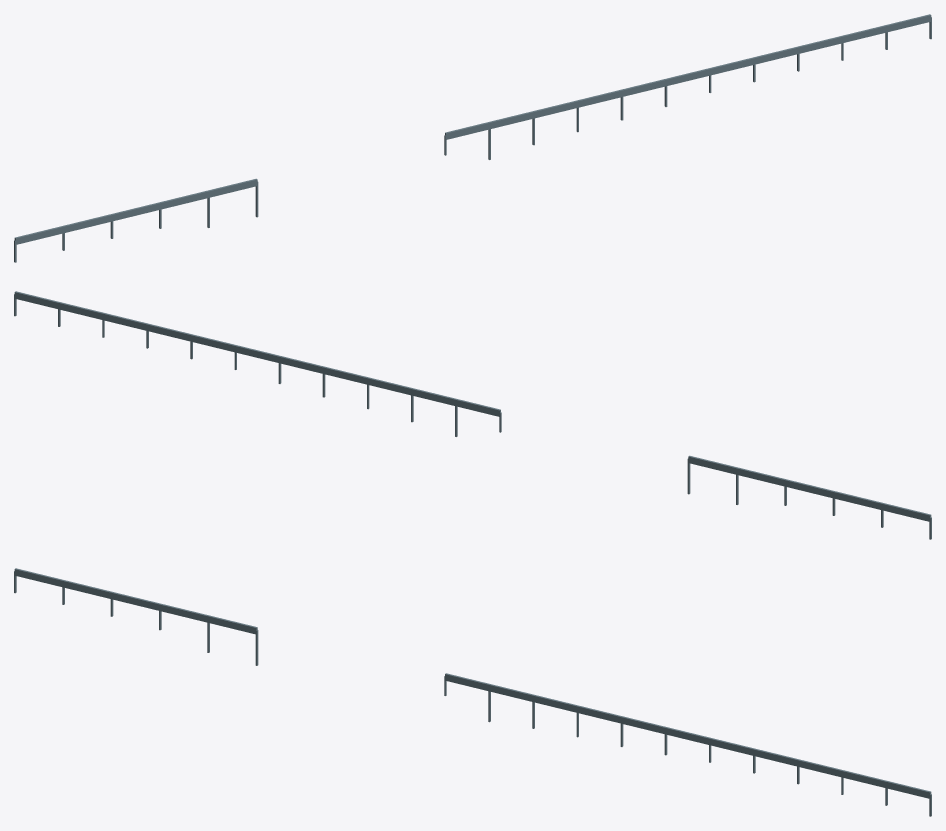
File: guardrails.dae
3 renders of one model, top to bottom at view 1: azimuth 30°, elevation 25°; view 2: azimuth 150°, elevation 25°; view 3: azimuth 330°, elevation 25°, orthographic.
Visible parts, largest first — view 1: guardrails_01_a1, guardrails_00_a1; view 2: guardrails_01_a1, guardrails_00_a1; view 3: guardrails_01_a1, guardrails_00_a1.
Boxes of the visible parts, bbox=[...] form: guardrails_01_a1: bbox=[445, 14, 931, 139]; guardrails_00_a1: bbox=[14, 178, 257, 244]; guardrails_01_a1: bbox=[14, 291, 500, 416]; guardrails_00_a1: bbox=[688, 455, 931, 521]; guardrails_01_a1: bbox=[445, 673, 931, 798]; guardrails_00_a1: bbox=[14, 568, 257, 634].
Size of the model in its own units: 44.07 by 0.1 by 1.74.
